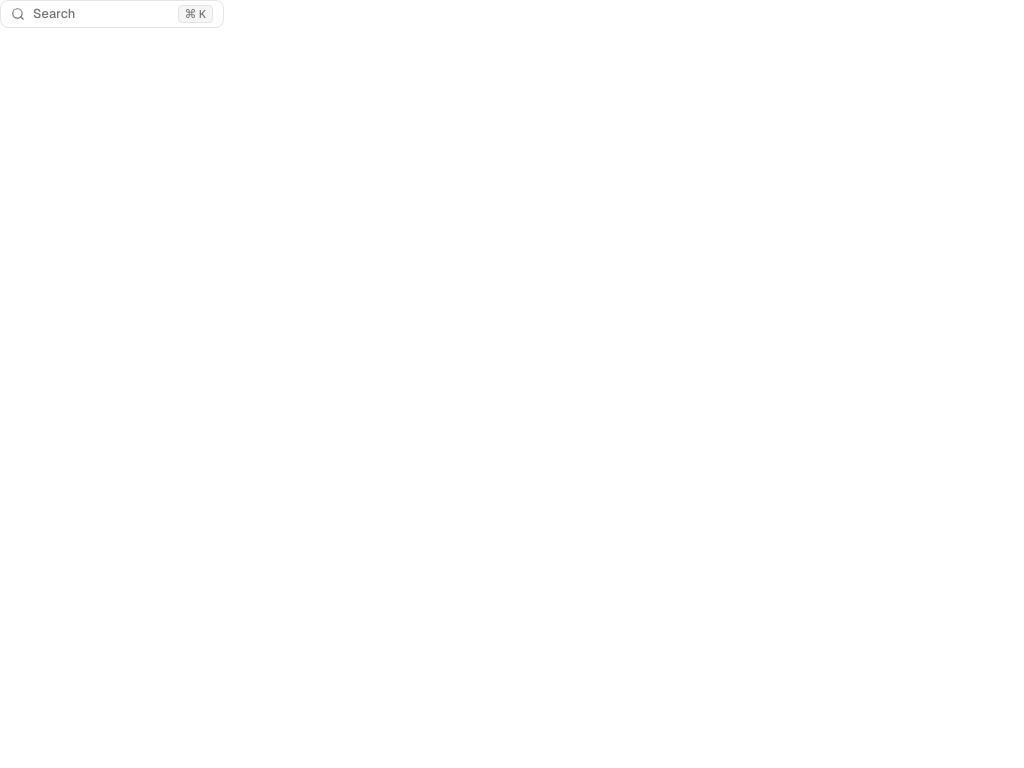
CommandMenu › navigates to a destination when an option is chosen
Step 1. Type keys "{Meta>}k{/Meta}"
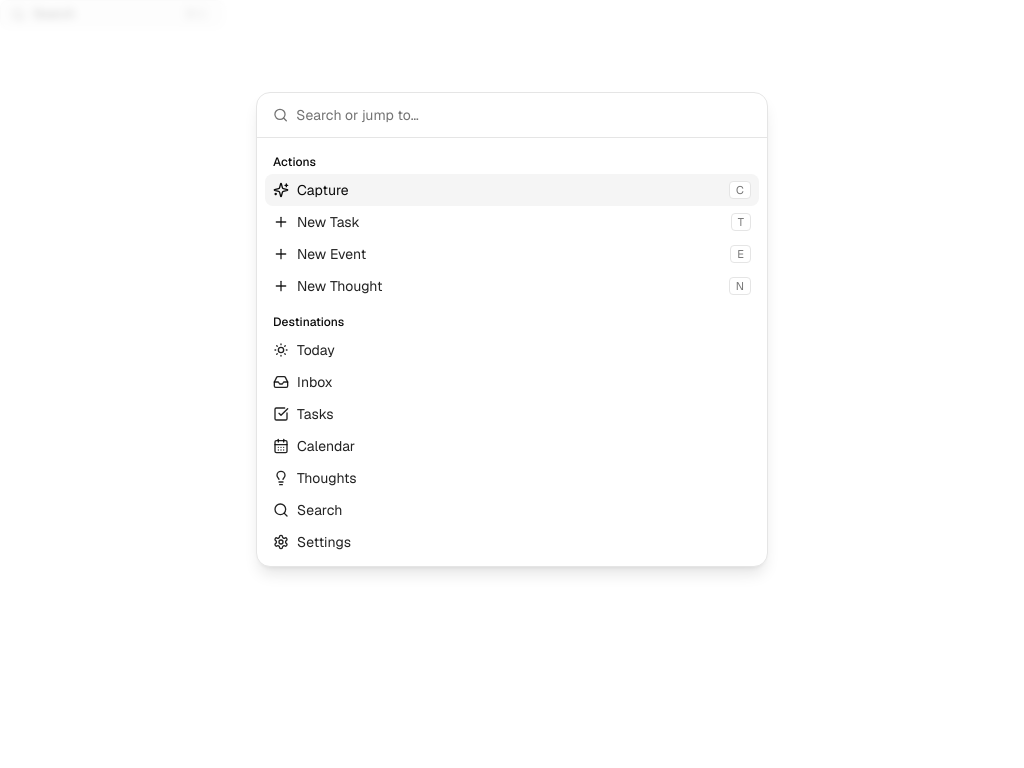
Step 2. Click the option "Calendar" → x=326, y=446, box [265,430,759,462]
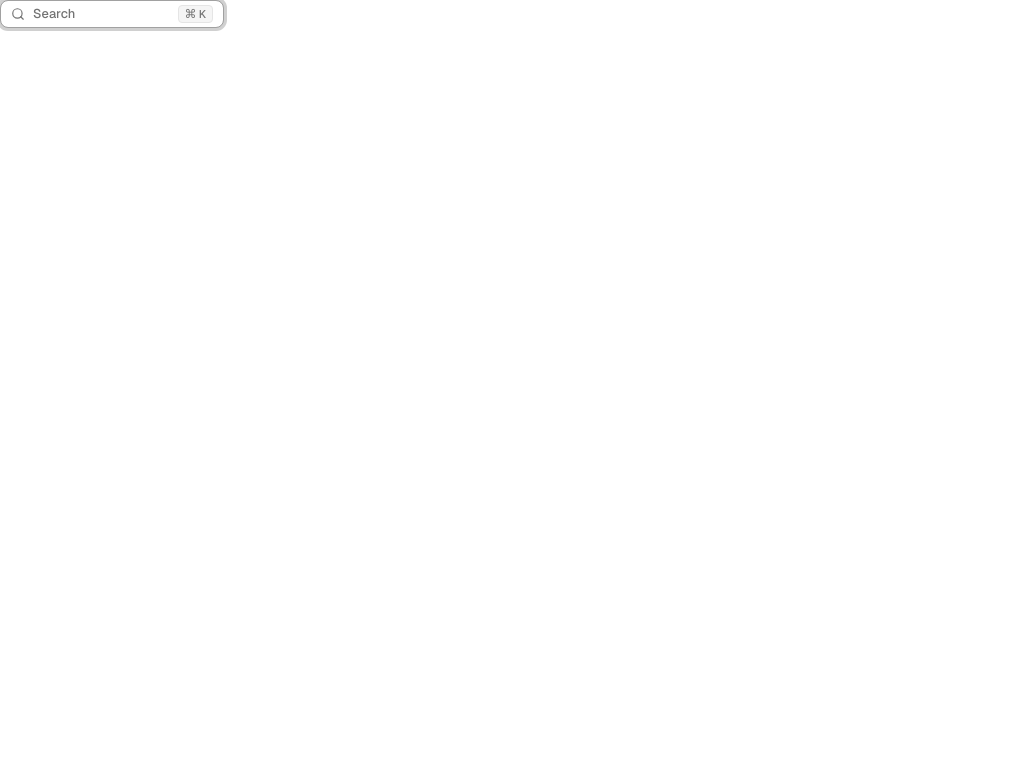
Expected: the dialog is gone
